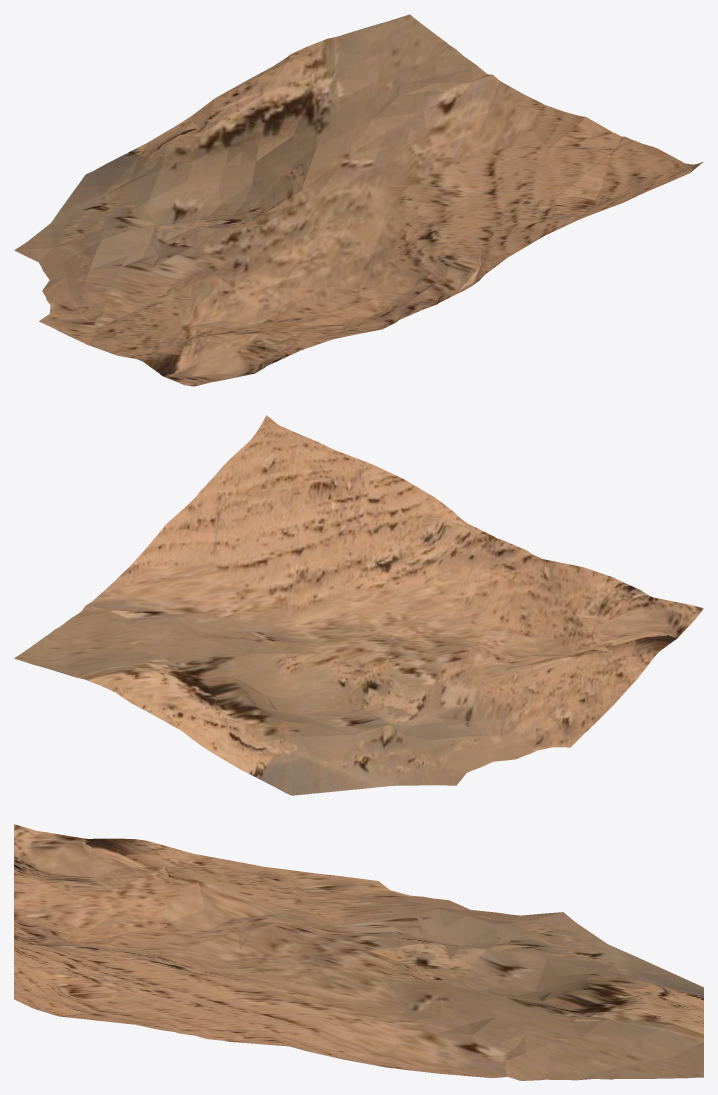
3 renders of one model, top to bottom at view 1: azimuth 30°, elevation 25°; view 2: azimuth 150°, elevation 25°; view 3: azimuth 270°, elevation 25°, orthographic. The views are drawn at different scales.
Size of the model in its own units: 1.04 by 0.2919 by 1.04.
Materials: 2 (2 with a texture image).
